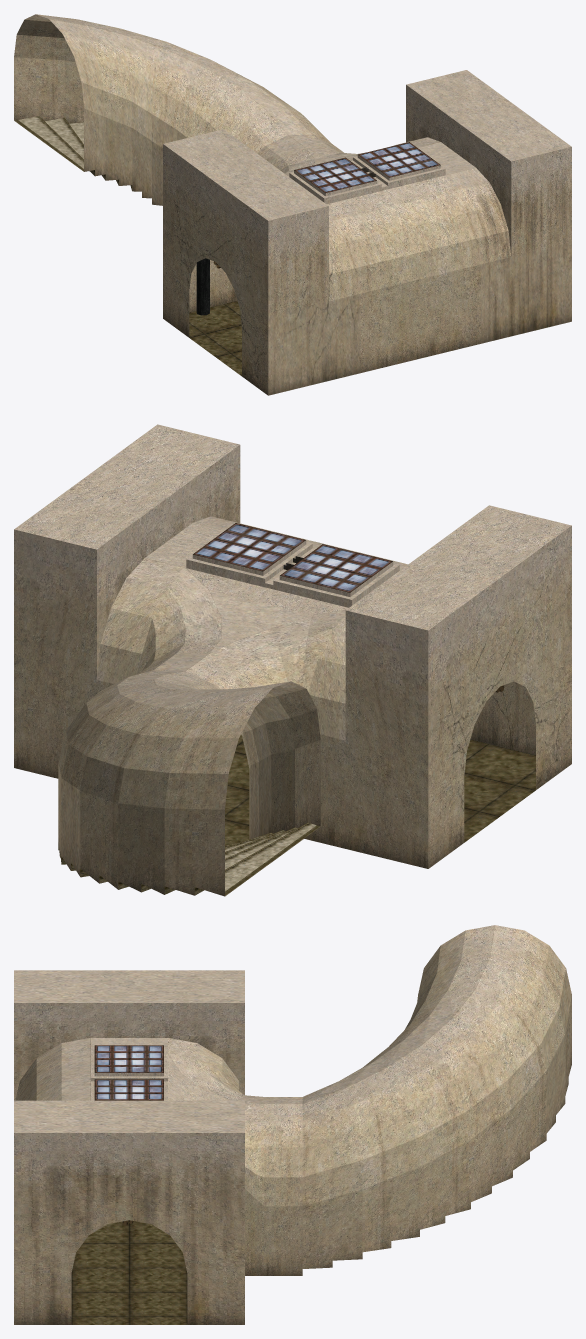
Rendered from thm_tato_jabbas_palace_r11_stairs4_mesh_r11.fbx.
3 renders of one model, top to bottom at view 1: azimuth 30°, elevation 25°; view 2: azimuth 150°, elevation 25°; view 3: azimuth 270°, elevation 25°, orthographic. The views are drawn at different scales.
Visible parts, largest first — view 1: mesh_node; view 2: mesh_node; view 3: mesh_node.
Boxes of the visible parts, bbox=[...] form: mesh_node: bbox=[14, 14, 571, 395]; mesh_node: bbox=[14, 424, 571, 896]; mesh_node: bbox=[14, 925, 571, 1324].
Bounding box in the file's own units: 10 × 6.8 × 14.5.
